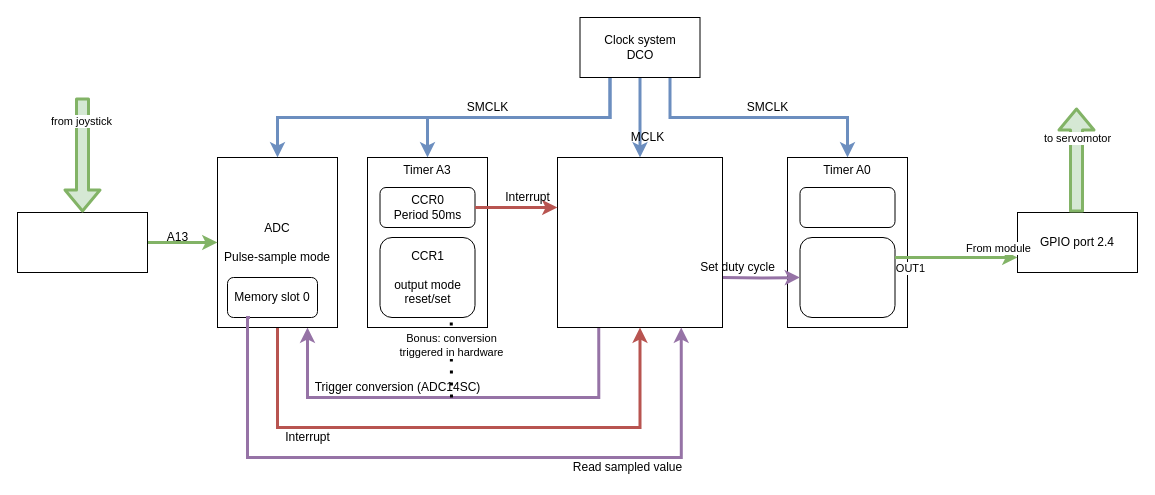
Some shapes in this 1155 by 495 pixel diagram are drawn without their labels. The shapes that lost their labels are listed below. From the top down, each one's centre as x and y in pixels, then its label:
At (847,207): "CCR0 Period 20ms".
At (82,242): "GPIO port 4.0".
At (639,242): "Processor".
At (847,277): "CCR1 Duty-cycle 1-2ms output mode reset/set".
